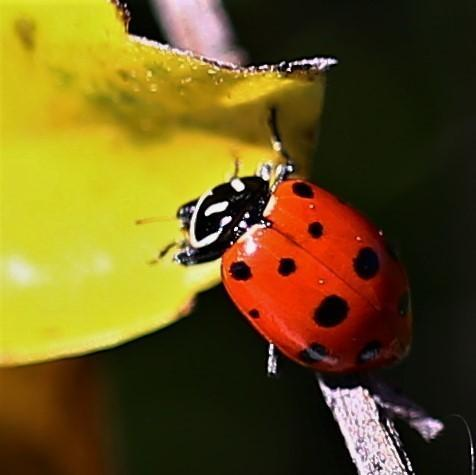ladybug: (135, 100, 420, 376)
